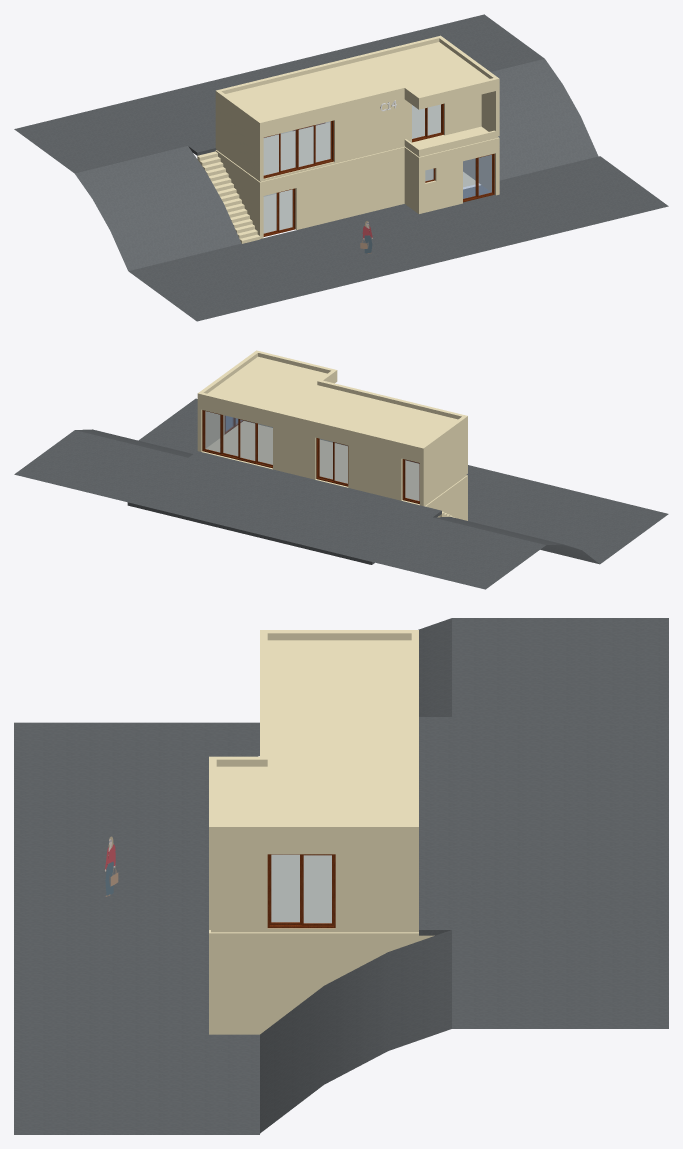
The picture shows the model from 3 angles, top to bottom: view 1: azimuth 30°, elevation 25°; view 2: azimuth 150°, elevation 25°; view 3: azimuth 270°, elevation 25°; orthographic projection. The views are drawn at different scales.
Parts seen in each view (by area): view 1: 19827, 19807 (×2), 17029, 18941, 18691, 19815, 18744, 19753, Component#1 (×3), Component#2, 24172; view 2: 18744, 17029, 19827, 18691, 19815, 19753, Component#2, 19807 (×2), Component#1, 18941, 17334; view 3: 19827, 18744, 18691, 17029, 19807 (×2), 19753, 19815, 18941, Component#1.
Boxes of the visible parts, x1=… form: 19827: x1=128, y1=156, x2=668, y2=321; 19807 (×2): x1=74, y1=59, x2=598, y2=270; 17029: x1=215, y1=35, x2=499, y2=180; 18941: x1=215, y1=135, x2=499, y2=238; 18691: x1=225, y1=42, x2=489, y2=120; 19815: x1=14, y1=101, x2=187, y2=173; 18744: x1=127, y1=42, x2=381, y2=155; 19753: x1=371, y1=14, x2=544, y2=71; Component#1 (×3): x1=263, y1=103, x2=494, y2=236; Component#2: x1=263, y1=120, x2=333, y2=178; 24172: x1=404, y1=126, x2=495, y2=155; 18744: x1=127, y1=451, x2=441, y2=564; 17029: x1=197, y1=350, x2=467, y2=505; 19827: x1=138, y1=398, x2=668, y2=563; 18691: x1=207, y1=356, x2=457, y2=445; 19815: x1=372, y1=517, x2=545, y2=589; 19753: x1=14, y1=430, x2=187, y2=502; Component#2: x1=202, y1=410, x2=272, y2=468; 19807 (×2): x1=75, y1=429, x2=599, y2=564; Component#1: x1=316, y1=438, x2=348, y2=486; 18941: x1=222, y1=456, x2=467, y2=520; 17334: x1=402, y1=459, x2=419, y2=504; 19827: x1=14, y1=722, x2=259, y2=1134; 18744: x1=419, y1=717, x2=668, y2=935; 18691: x1=216, y1=640, x2=411, y2=823; 17029: x1=209, y1=630, x2=418, y2=929; 19807 (×2): x1=260, y1=618, x2=451, y2=1133; 19753: x1=452, y1=930, x2=668, y2=1028; 19815: x1=452, y1=618, x2=668, y2=716; 18941: x1=209, y1=928, x2=434, y2=1034; Component#1: x1=267, y1=854, x2=335, y2=928.
Size of the model in its own units: 25.77 by 6.23 by 17.3.
402 materials, 116 textured.
